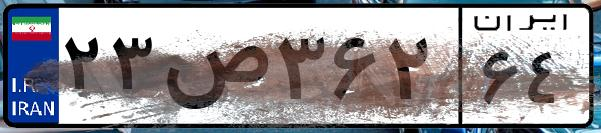2: (385, 28, 445, 110), (57, 26, 110, 100)
3: (270, 28, 330, 110), (110, 28, 158, 98)
4: (525, 38, 570, 115)
6: (330, 28, 385, 110), (475, 38, 525, 113)
ص: (158, 20, 270, 120)
